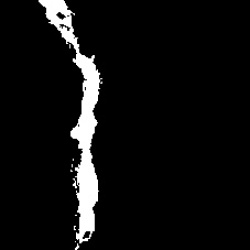crack: (38, 2, 101, 244)
